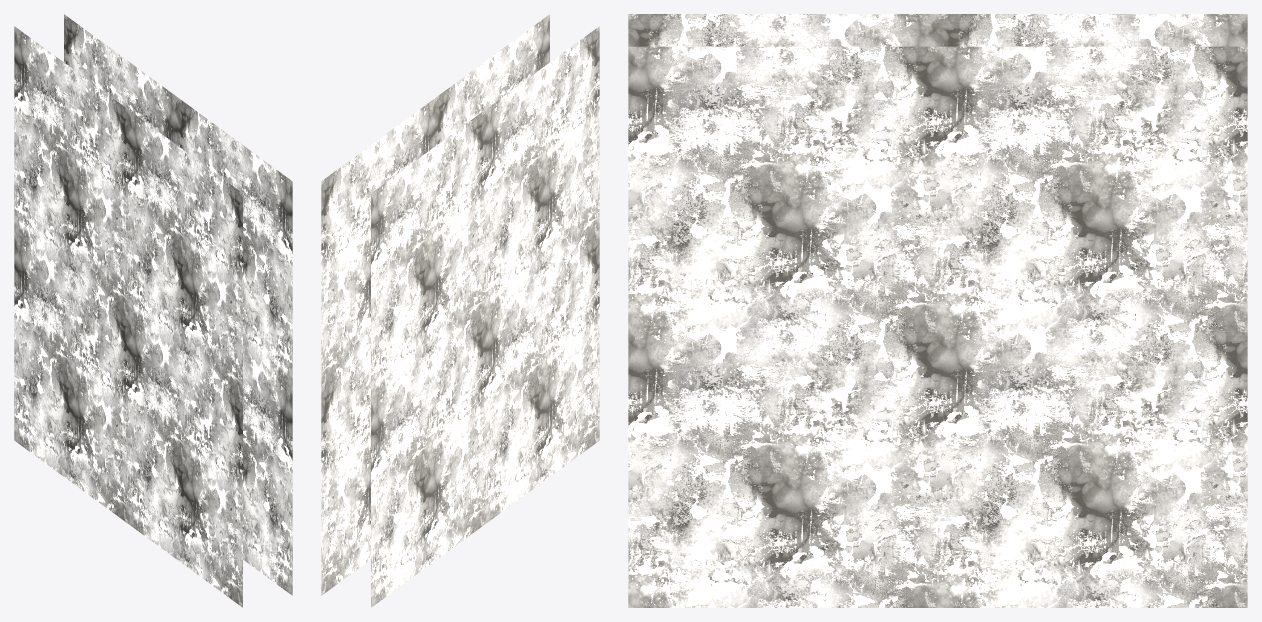
The model's file is SM_wall_A_4x4_01_01.fbx.
3 renders of one model, left to right at view 1: azimuth 30°, elevation 25°; view 2: azimuth 150°, elevation 25°; view 3: azimuth 270°, elevation 25°, orthographic. The views are drawn at different scales.
Parts seen in each view (by area): view 1: SM_wall_A_4x4_01_01_LOD0; view 2: SM_wall_A_4x4_01_01_LOD0; view 3: SM_wall_A_4x4_01_01_LOD0.
Part boxes in pixels (x1,y1,x2,y2): SM_wall_A_4x4_01_01_LOD0: [14, 14, 292, 607]; SM_wall_A_4x4_01_01_LOD0: [321, 14, 599, 607]; SM_wall_A_4x4_01_01_LOD0: [628, 14, 1247, 607].
Bounding box in the file's own units: 50 × 400 × 400.
Materials: 2 (2 with a texture image).
